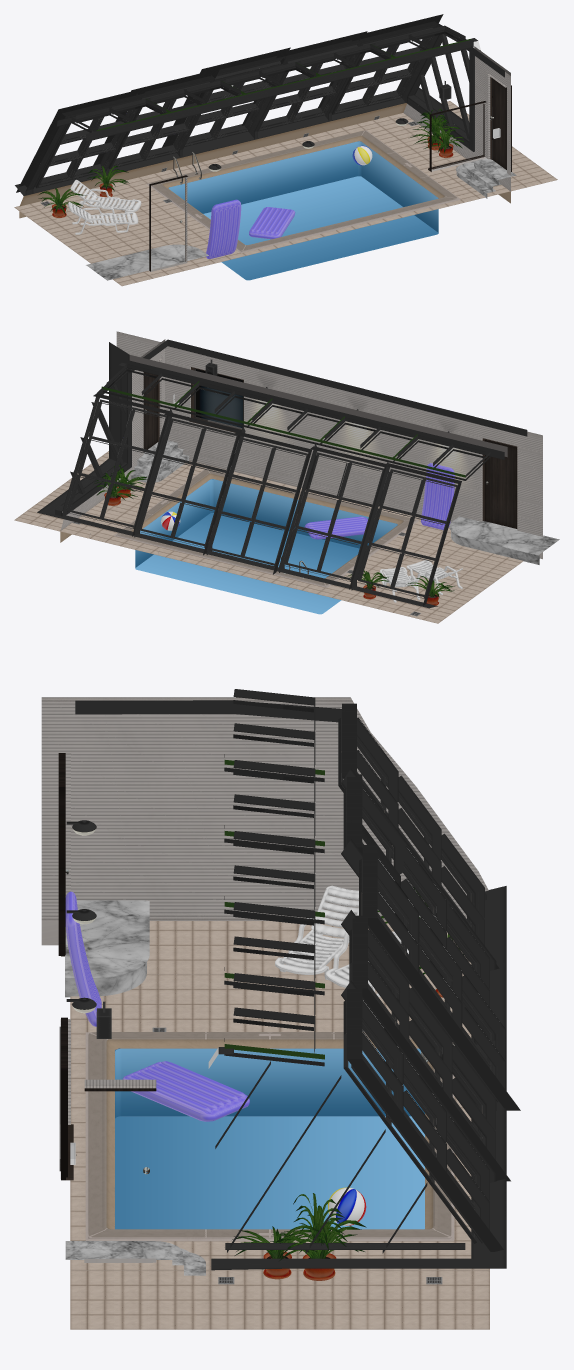
The model's file is pool.glb.
3 renders of one model, top to bottom at view 1: azimuth 30°, elevation 25°; view 2: azimuth 150°, elevation 25°; view 3: azimuth 270°, elevation 25°, orthographic. The views are drawn at different scales.
Visible parts, largest first — view 1: 000412-vb0=9f50b06d-vs=0b76a35c80823274-ps=8936fc882dfd54d6.; view 2: 000412-vb0=9f50b06d-vs=0b76a35c80823274-ps=8936fc882dfd54d6.; view 3: 000412-vb0=9f50b06d-vs=0b76a35c80823274-ps=8936fc882dfd54d6..
Part boxes in pixels (x1=…): 000412-vb0=9f50b06d-vs=0b76a35c80823274-ps=8936fc882dfd54d6.: x1=14, y1=14, x2=557, y2=286; 000412-vb0=9f50b06d-vs=0b76a35c80823274-ps=8936fc882dfd54d6.: x1=14, y1=331, x2=559, y2=623; 000412-vb0=9f50b06d-vs=0b76a35c80823274-ps=8936fc882dfd54d6.: x1=41, y1=689, x2=520, y2=1329.
Bounding box in the file's own units: 1314 × 481 × 632.
Materials: 1 (1 with a texture image).
